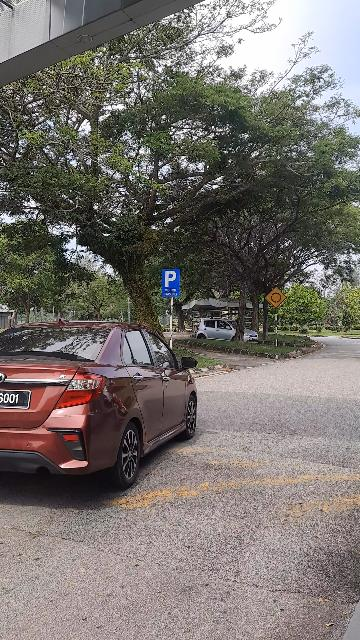License_Plate: (1, 374, 39, 414)
car: (2, 316, 205, 484)
